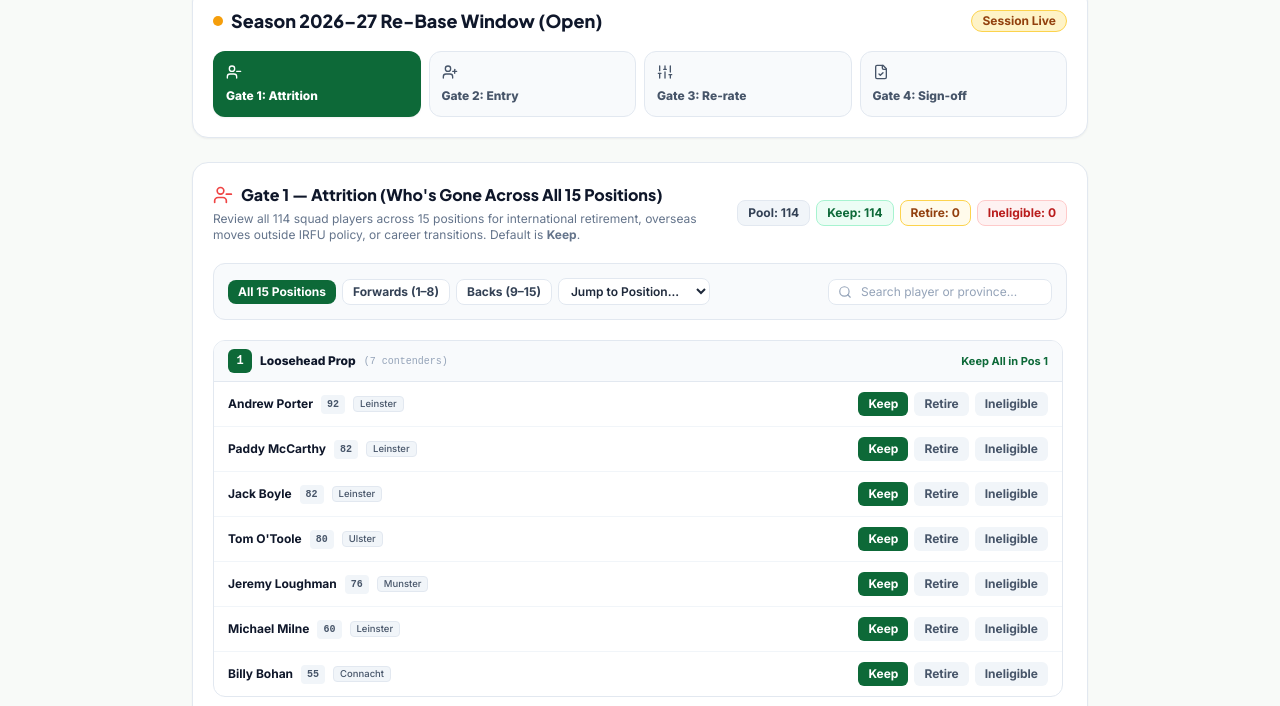
RebaseWizard Full Squad & All-15-Positions Integrity › filters by search query
Type "Prendergast" into the field with placeholder "Search player or province...". click: coordinates (940, 292)
box: [828,279,1052,305]
(page scrolled)
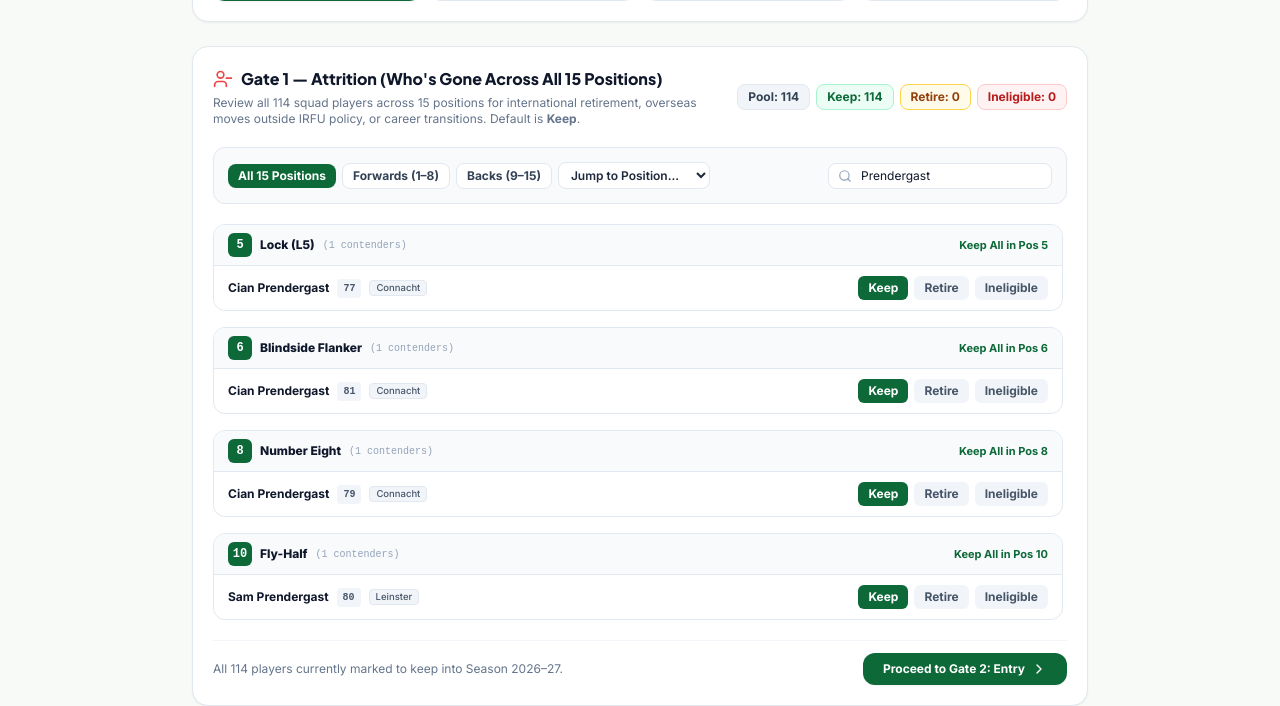
Expected: the text "Sam Prendergast" is shown, [228,589,329,605]
Expected: the text "Andrew Porter" is gone
